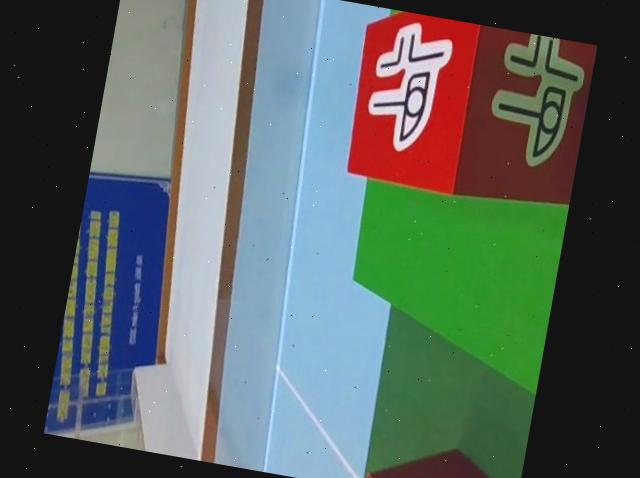R2 Real: (341, 5, 597, 209), (365, 430, 524, 478)
